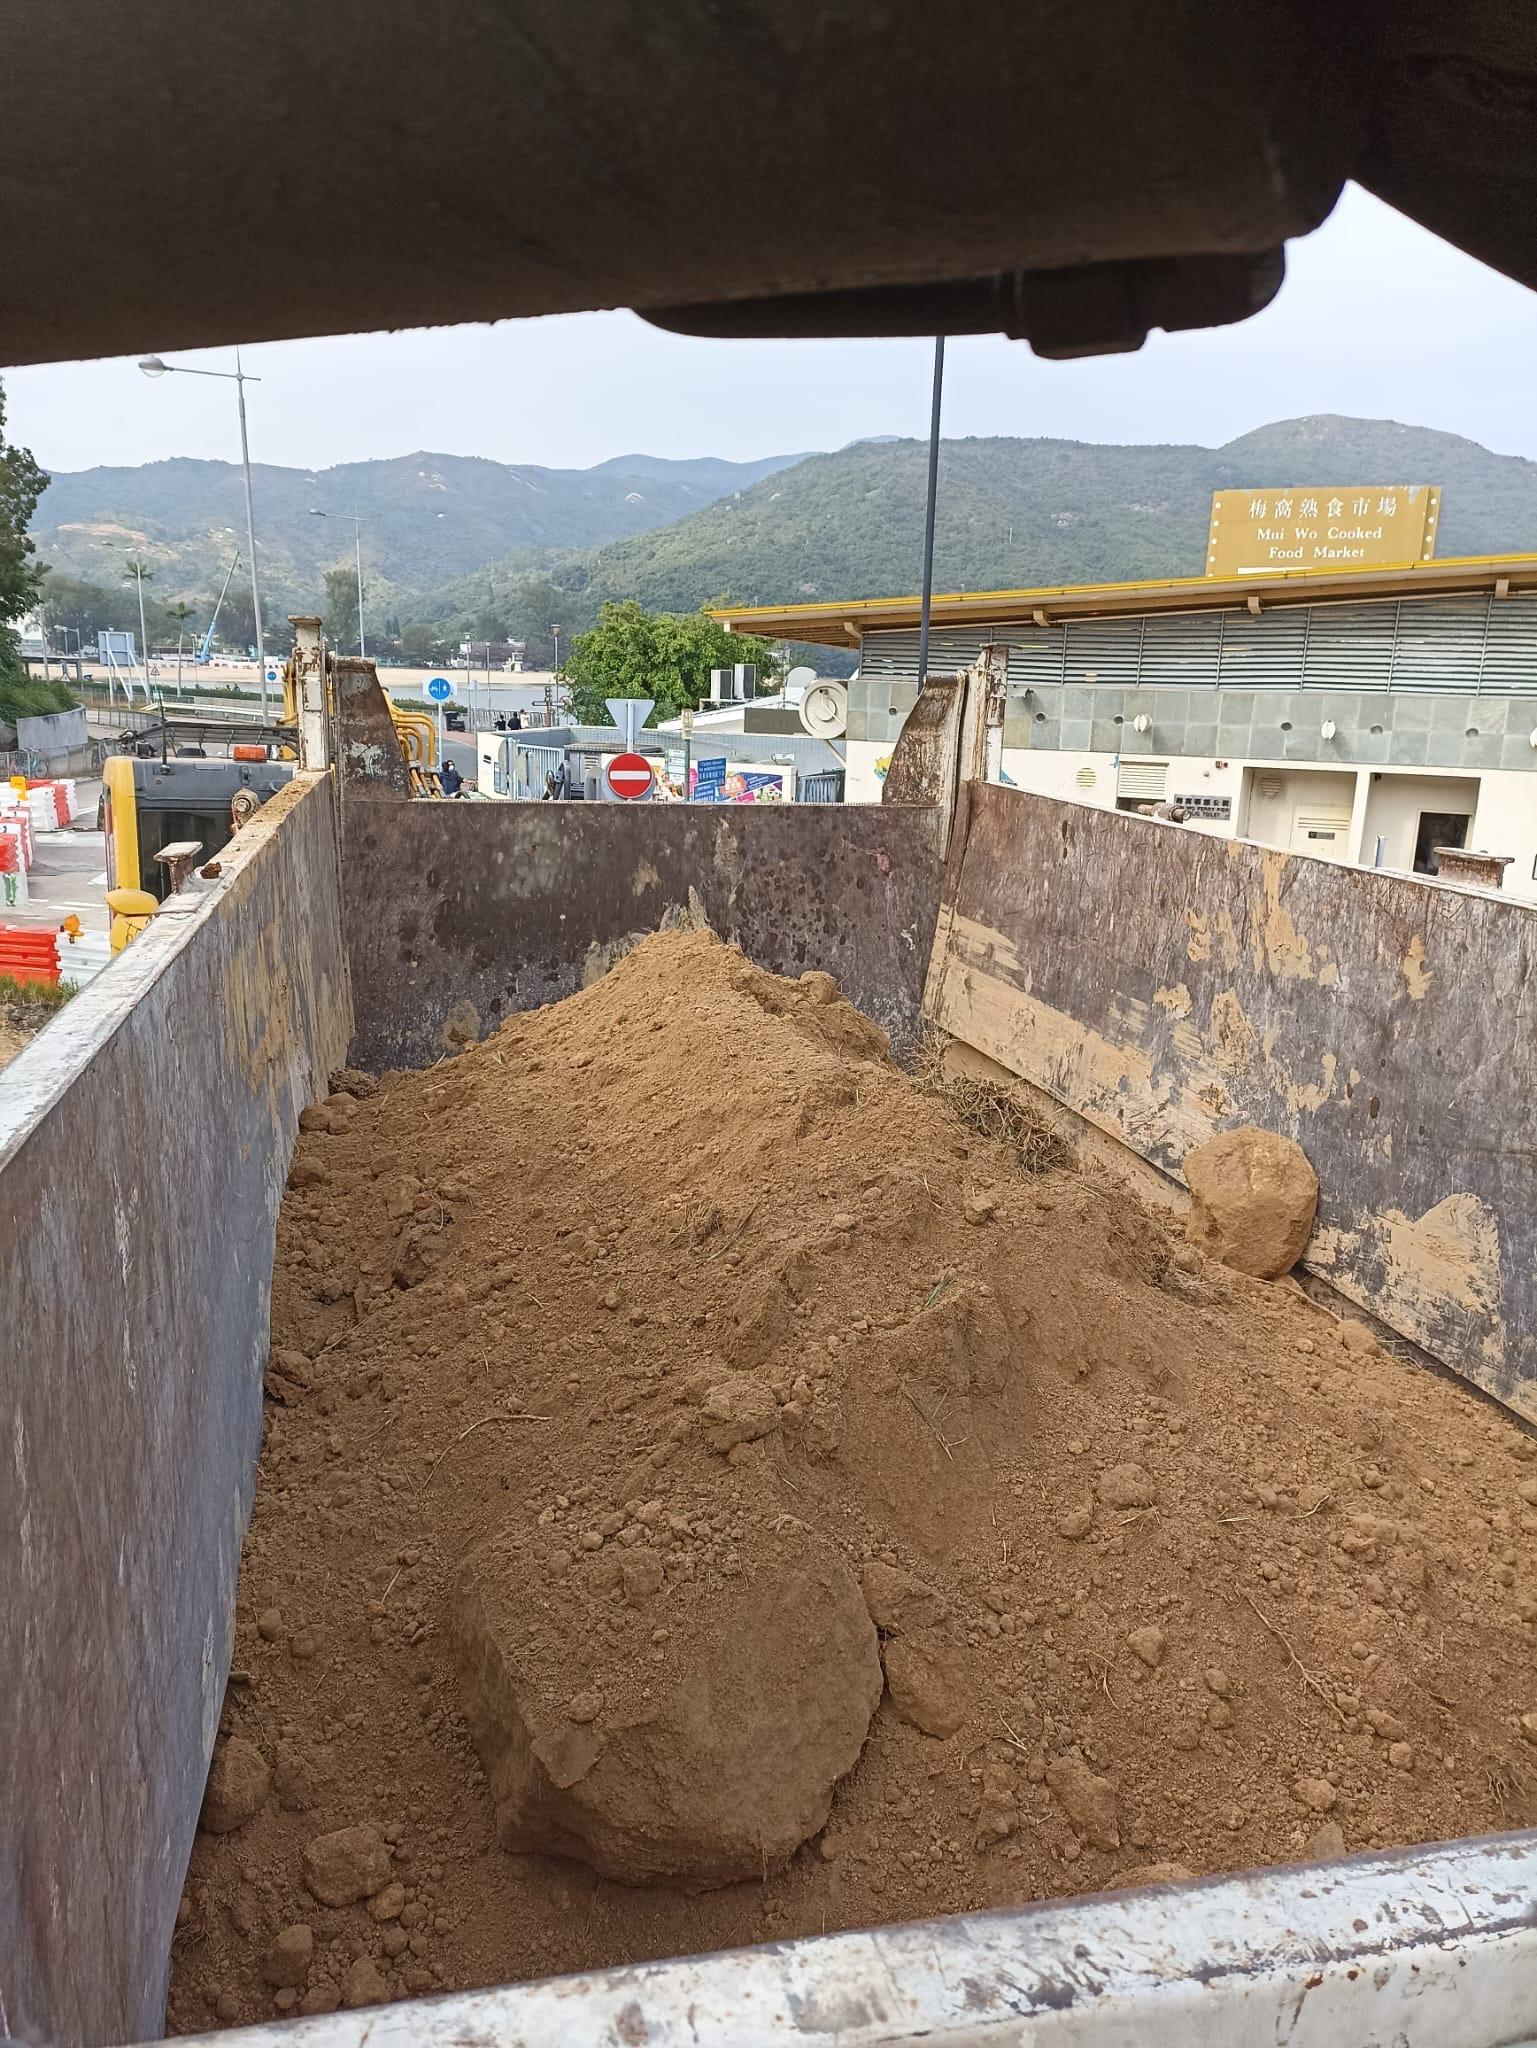dirt: (164, 916, 1534, 2033)
stone: (445, 1485, 885, 1890), (1181, 1124, 1320, 1279), (299, 1822, 395, 1905)
